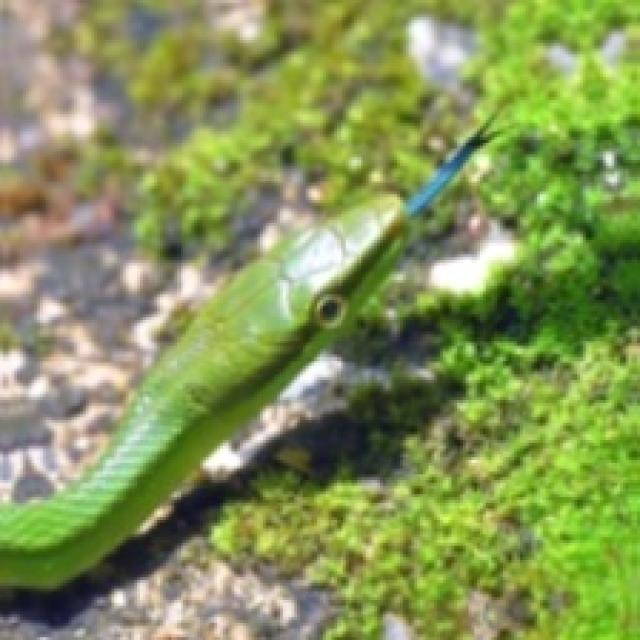red-tailed green ratsnake: (0, 120, 491, 589)
